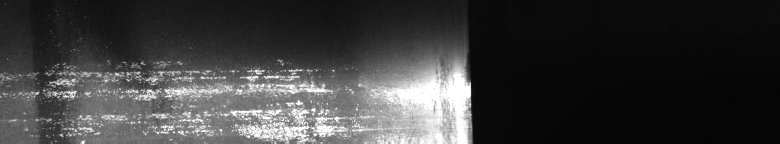kb: (4, 59, 376, 136)
